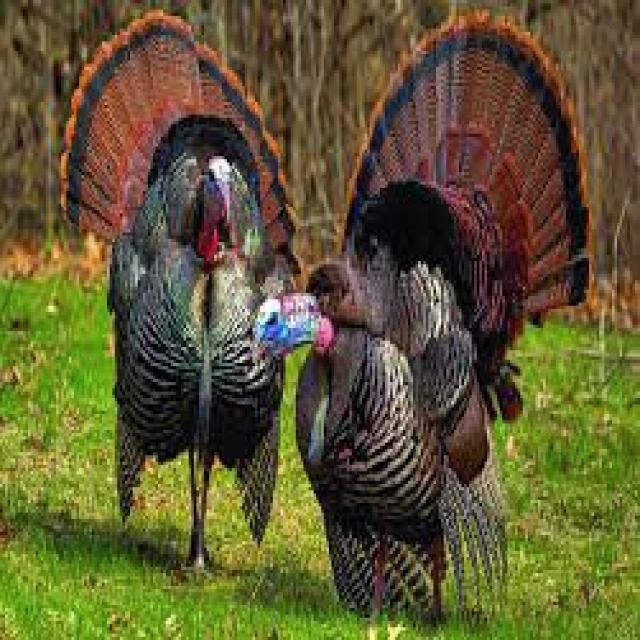turkey: (252, 13, 586, 615), (61, 10, 298, 567)
